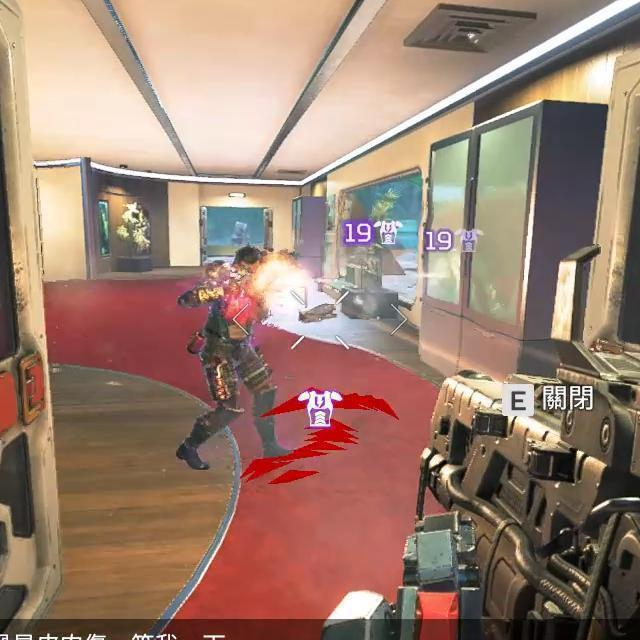avatar: (174, 244, 293, 474)
